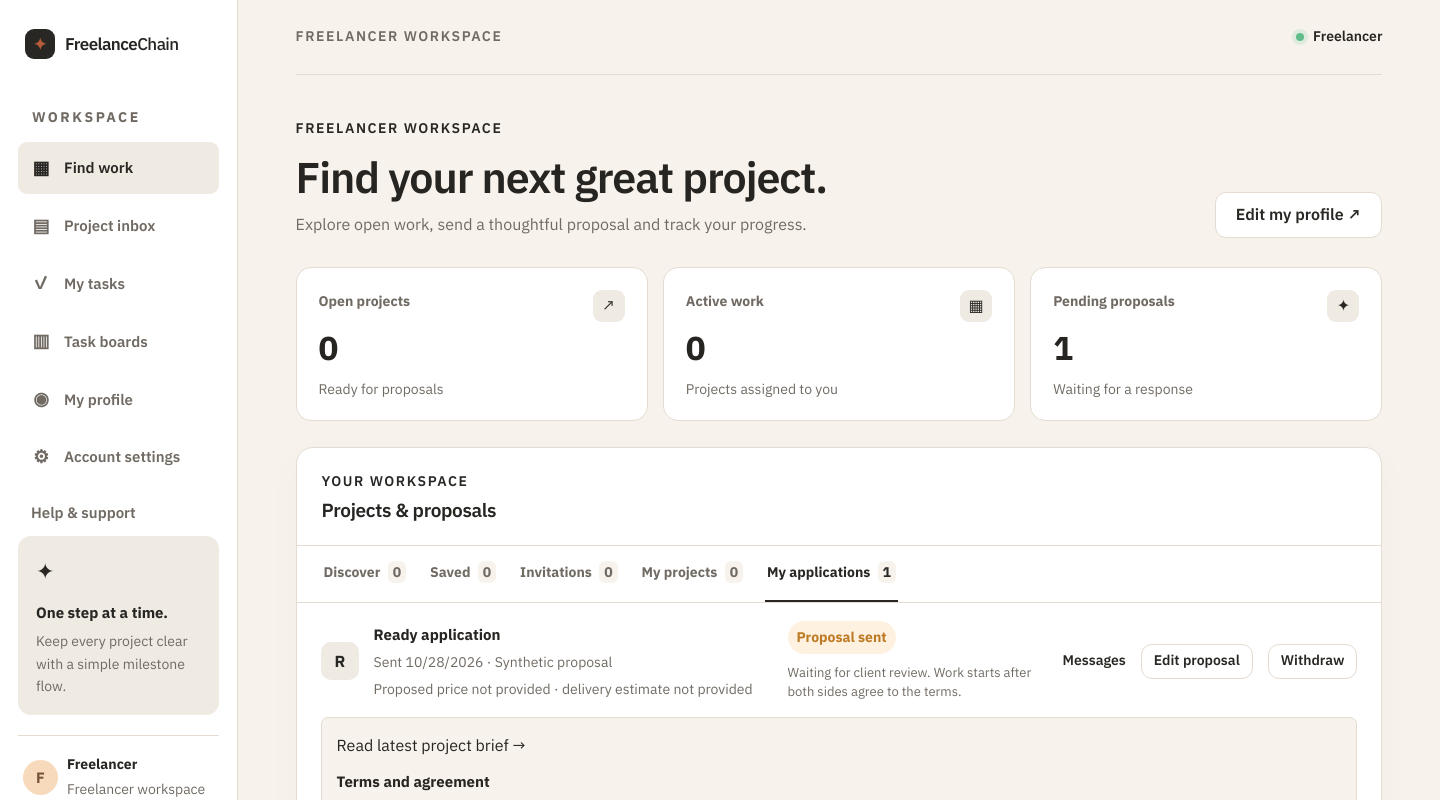
Test: applications remain usable when an unrelated dashboard request is slow
Expected: the button "Edit proposal" is enabled, 1141,644 -> 1253,679
Expected: the text "Ready application" is shown, 374,625 -> 500,644
Click the tab "My projects 0". click: x=692, y=574
box: 640,546 -> 745,602
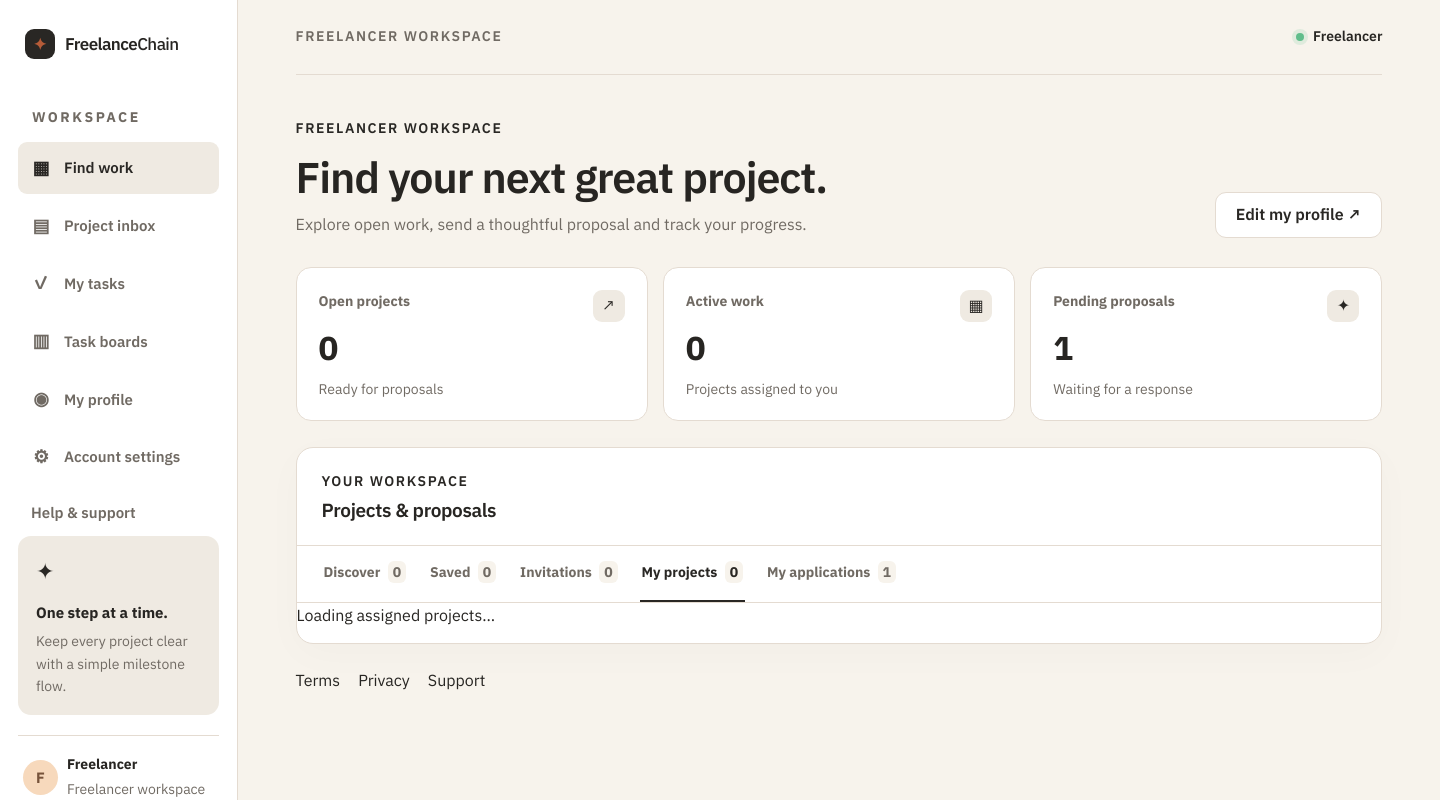
Click the tab "My applications 1". click: x=832, y=574
box: 765,546 -> 898,602
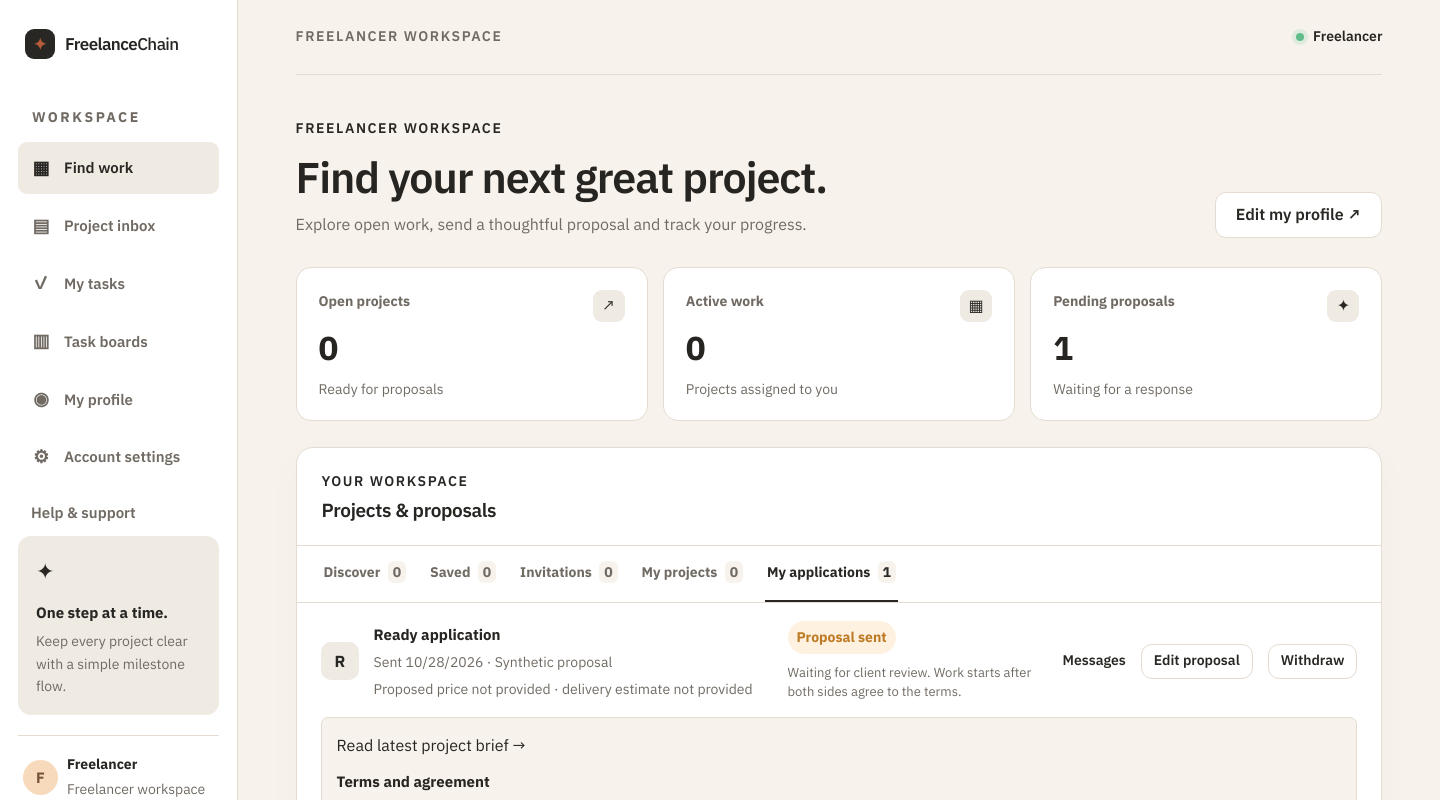
Result: the text "Ready application" is shown at 374,625 -> 500,644
